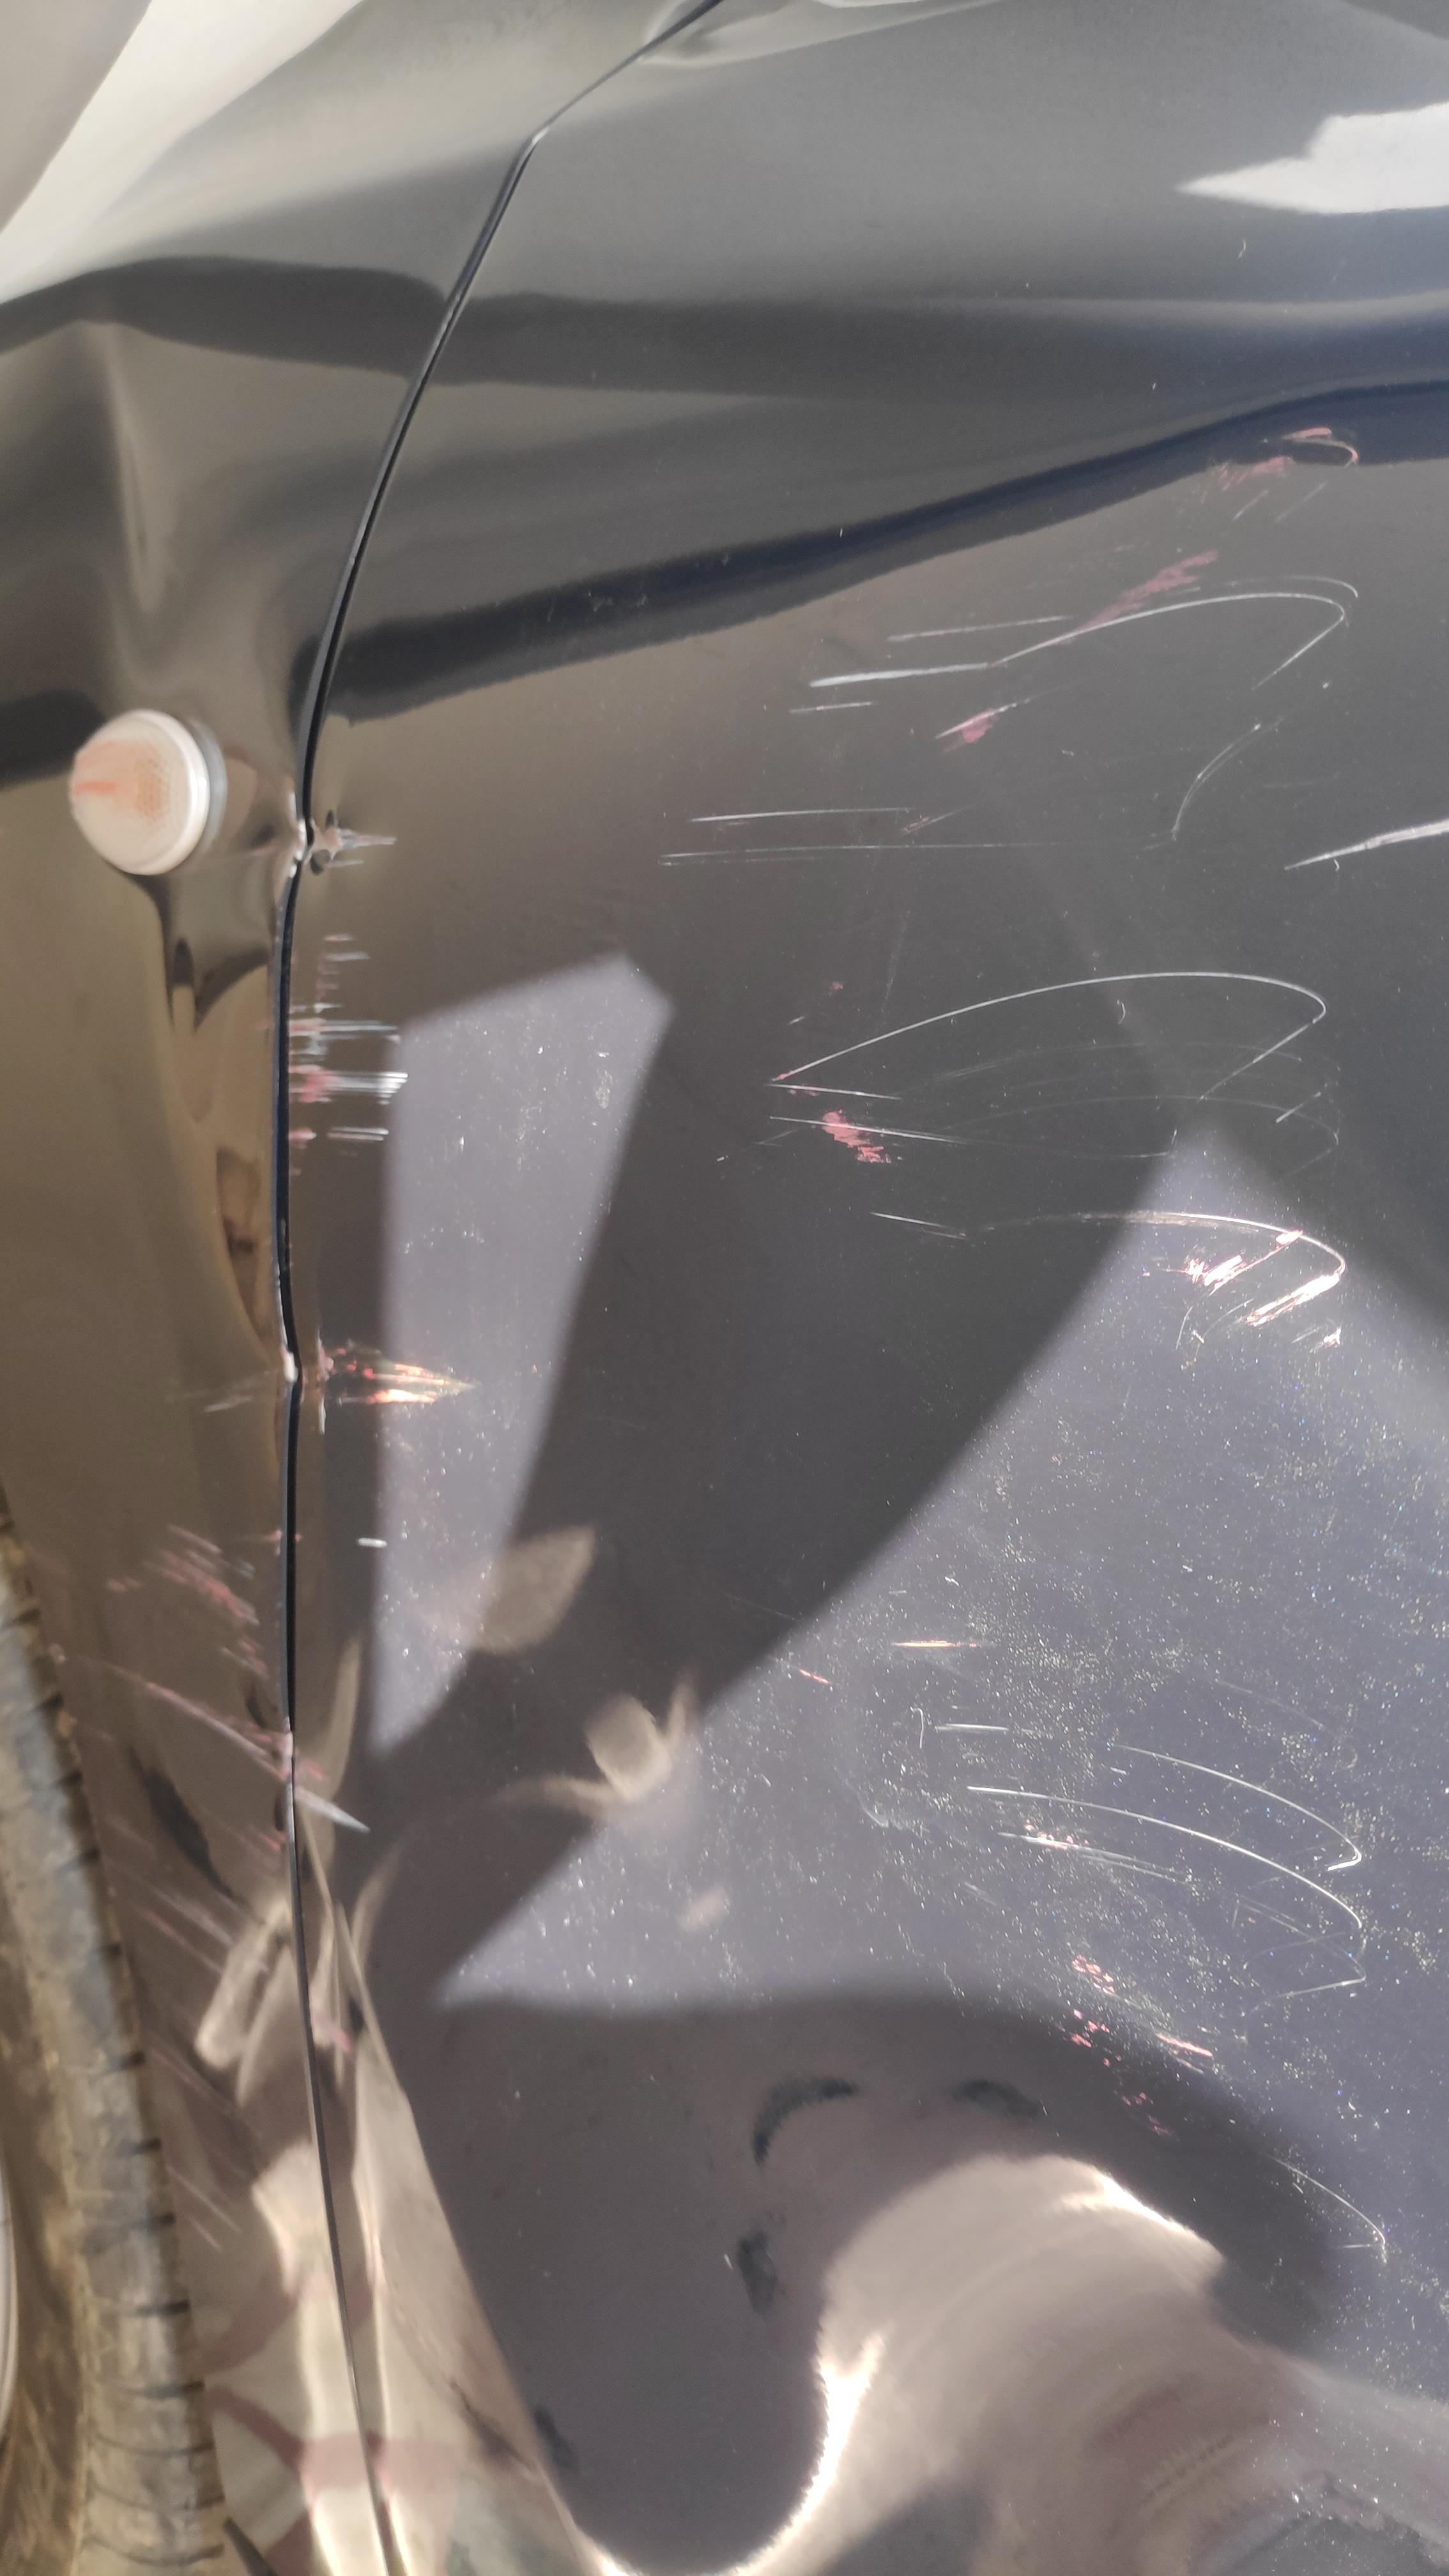dent: (7, 230, 1316, 2542), (651, 1713, 1449, 2574)
scratch: (639, 517, 1449, 2383), (0, 798, 472, 2549)
